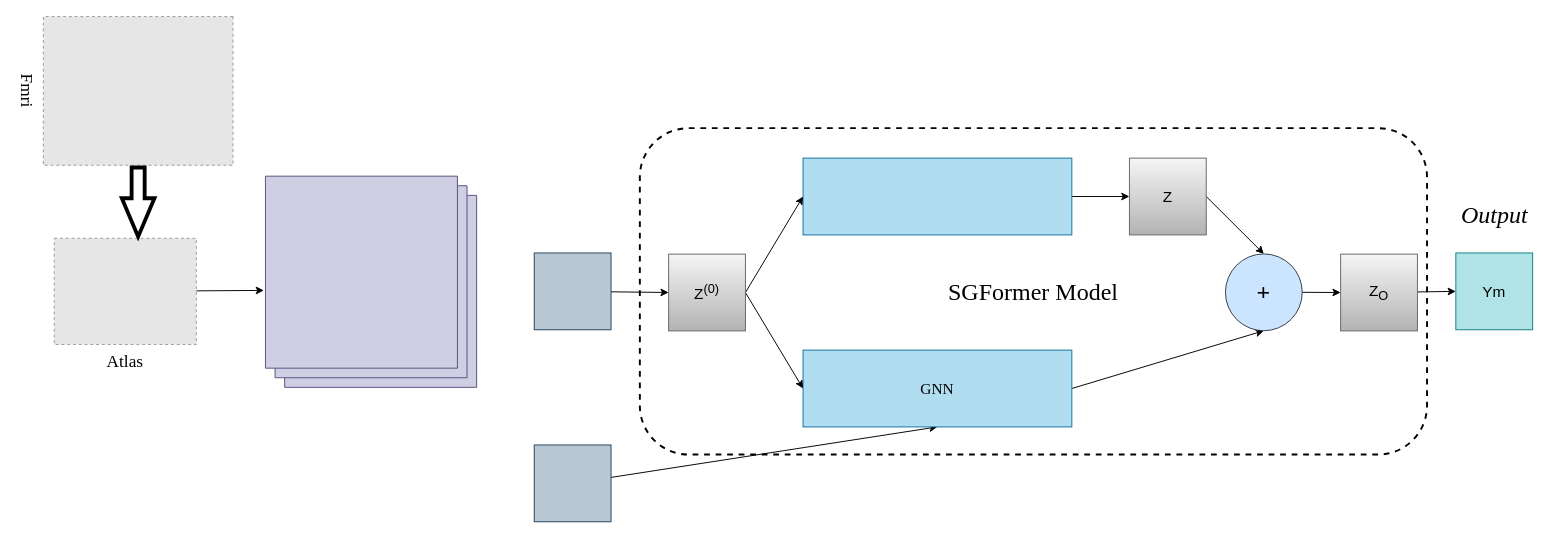
The diagram is 1554 pixels wide and 540 high, and some of its shapes have lost their labels. Grey dashed boxes stand in for pictures. The centre of each missing label's shape, as x and y in pixels:
A m: (x=572, y=483)
cc200脑图谱(200*200): (x=360, y=271)
Simple Global Attention: (x=937, y=196)
X m: (x=572, y=291)
